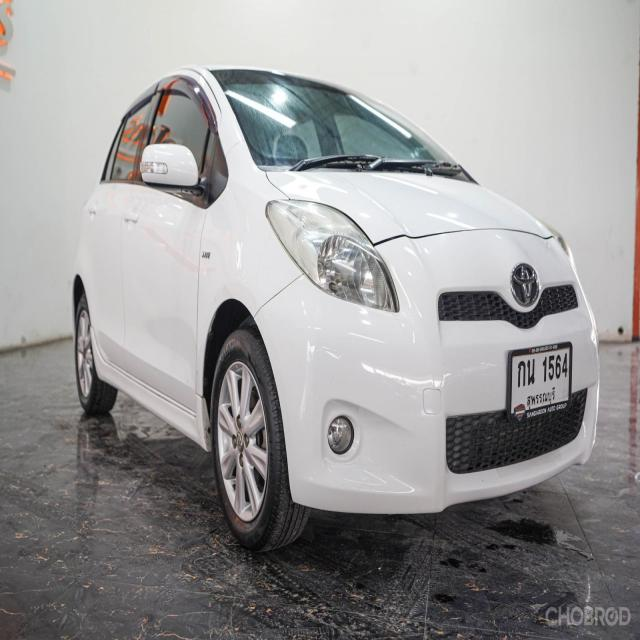license_plate: (505, 340, 576, 428)
